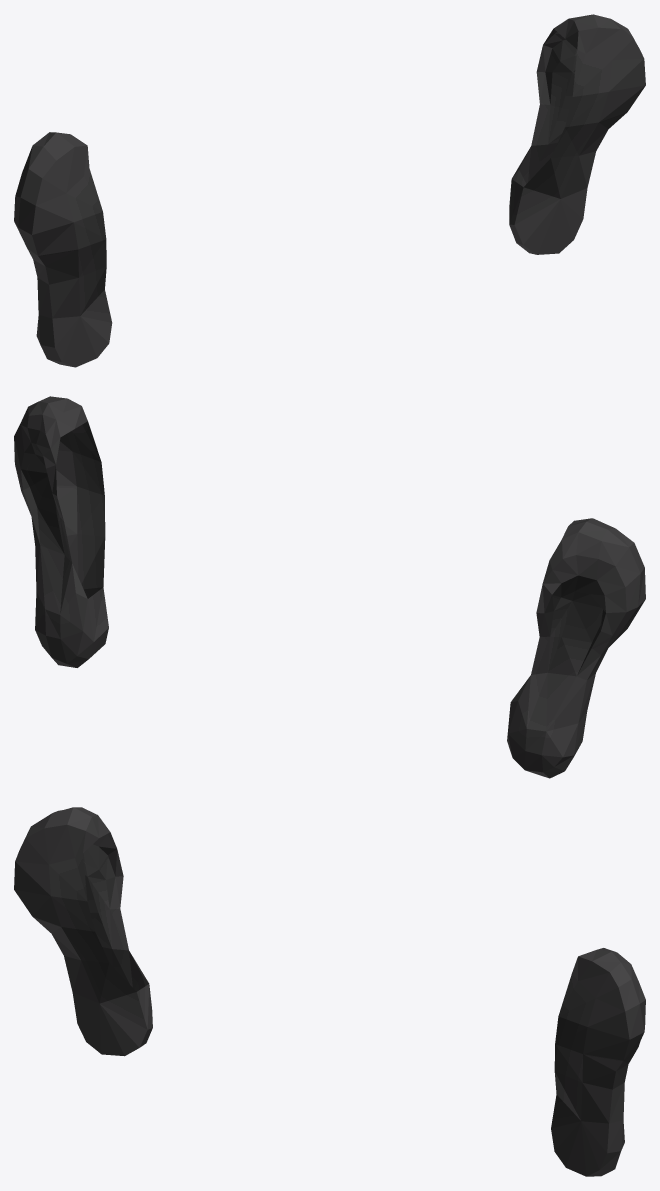
Rendered from CharSkyKid_Horn_MoonlightEarlobes.glb.
3 views of the same model, one above another, from view 1: azimuth 30°, elevation 25°; view 2: azimuth 150°, elevation 25°; view 3: azimuth 330°, elevation 25° (orthographic).
Parts seen in each view (by area): view 1: CharSkyKid_Horn_MoonlightEarlobes; view 2: CharSkyKid_Horn_MoonlightEarlobes; view 3: CharSkyKid_Horn_MoonlightEarlobes.
Part boxes in pixels (box(x1,y1,x2,y2)): CharSkyKid_Horn_MoonlightEarlobes: box(14, 14, 645, 367); CharSkyKid_Horn_MoonlightEarlobes: box(14, 396, 645, 778); CharSkyKid_Horn_MoonlightEarlobes: box(14, 807, 645, 1176).
Size of the model in its own units: 2.7 by 1.06 by 0.3536.
Materials: 1 (1 with a texture image).
